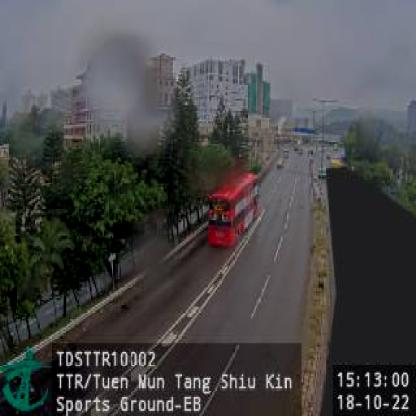Bus: (207, 170, 261, 250)
